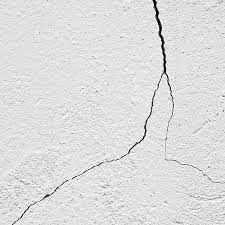crack: (10, 71, 164, 223), (154, 0, 221, 183)
